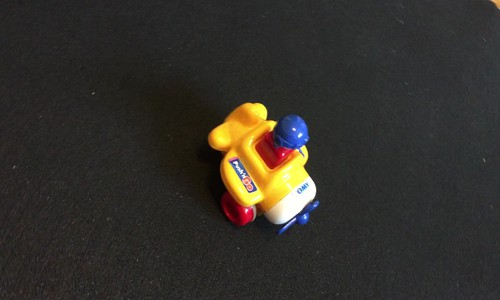toy: (205, 88, 319, 242)
